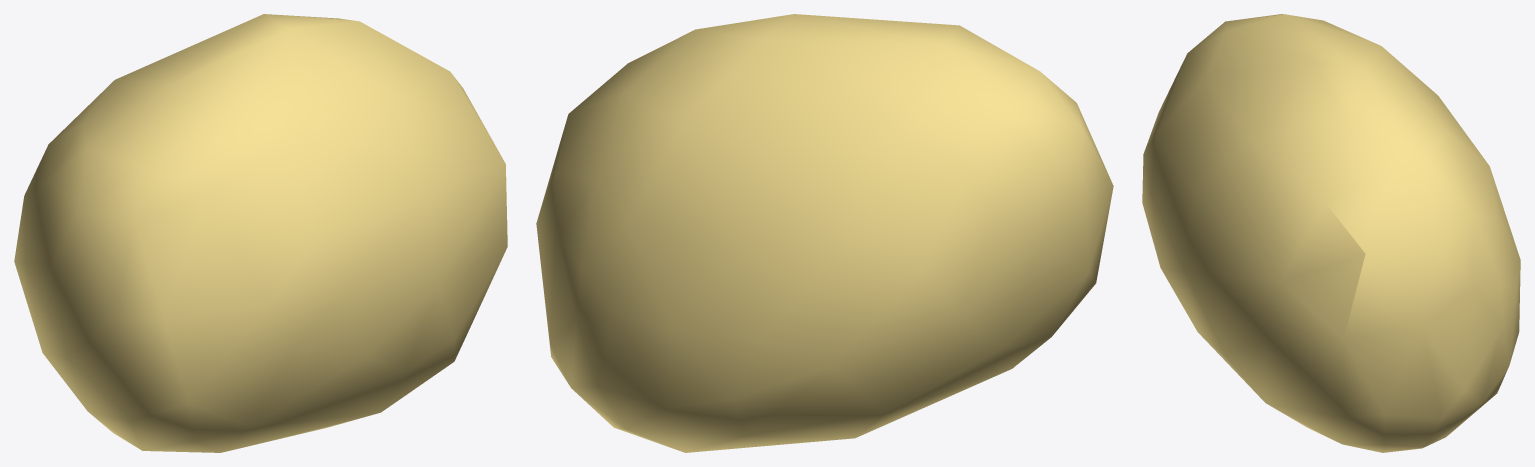
The model's file is fma73422_fj1826.glb.
3 views of the same model, side by side, from view 1: azimuth 30°, elevation 25°; view 2: azimuth 150°, elevation 25°; view 3: azimuth 270°, elevation 25° (orthographic). The views are drawn at different scales.
Visible parts, largest first — view 1: FMA73422_FJ1826; view 2: FMA73422_FJ1826; view 3: FMA73422_FJ1826.
Boxes of the visible parts, x1,y1,x2,y2 form: FMA73422_FJ1826: (14,14,507,452); FMA73422_FJ1826: (536,14,1113,452); FMA73422_FJ1826: (1142,14,1520,452).
Size of the model in its own units: 0.0077 by 0.00597 by 0.00602.
